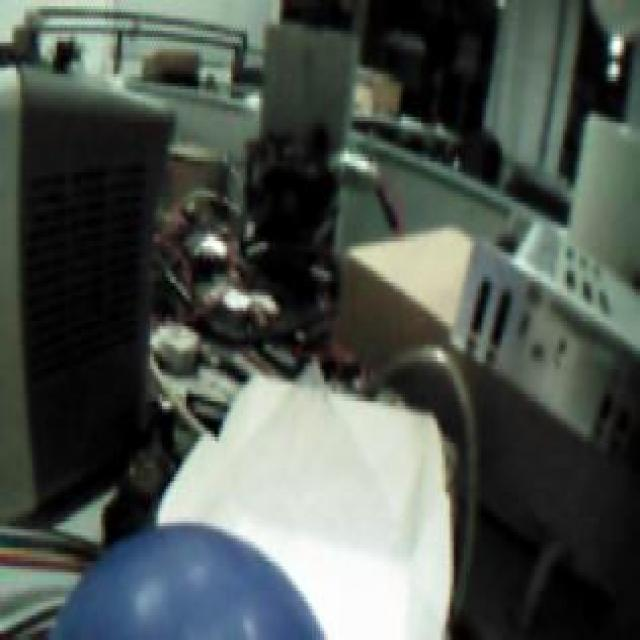BallPurple: (45, 523, 324, 640)
